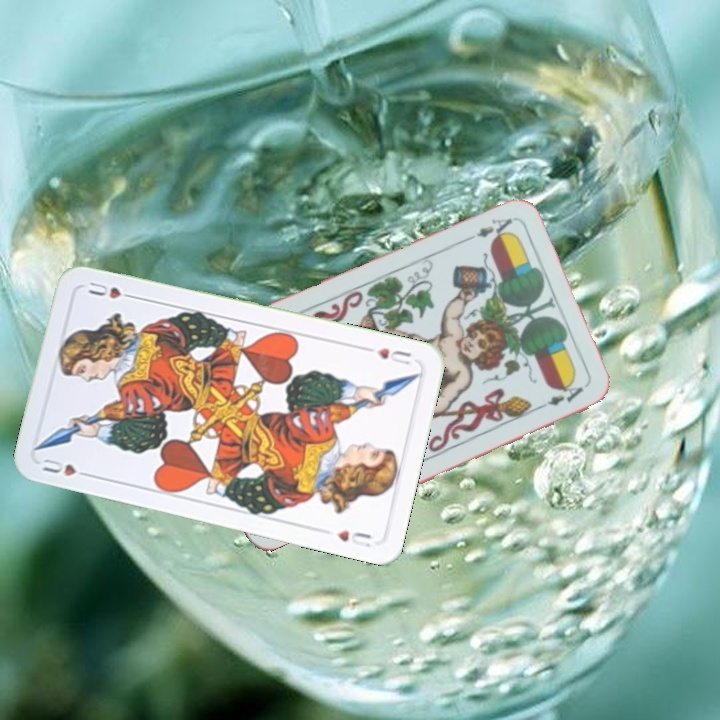EA: (458, 214, 515, 245)
HU: (38, 454, 95, 480), (372, 343, 414, 369)
